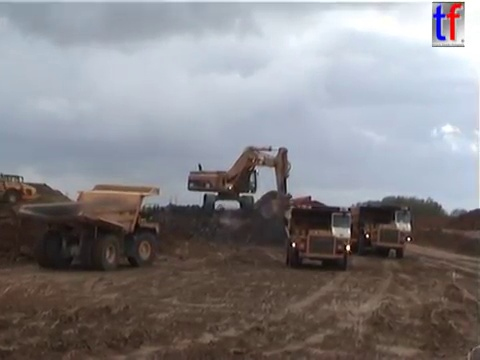excavator: (185, 143, 294, 222), (273, 194, 338, 224)
truck: (11, 182, 161, 271), (283, 202, 352, 271), (331, 204, 413, 257), (1, 171, 41, 206)
